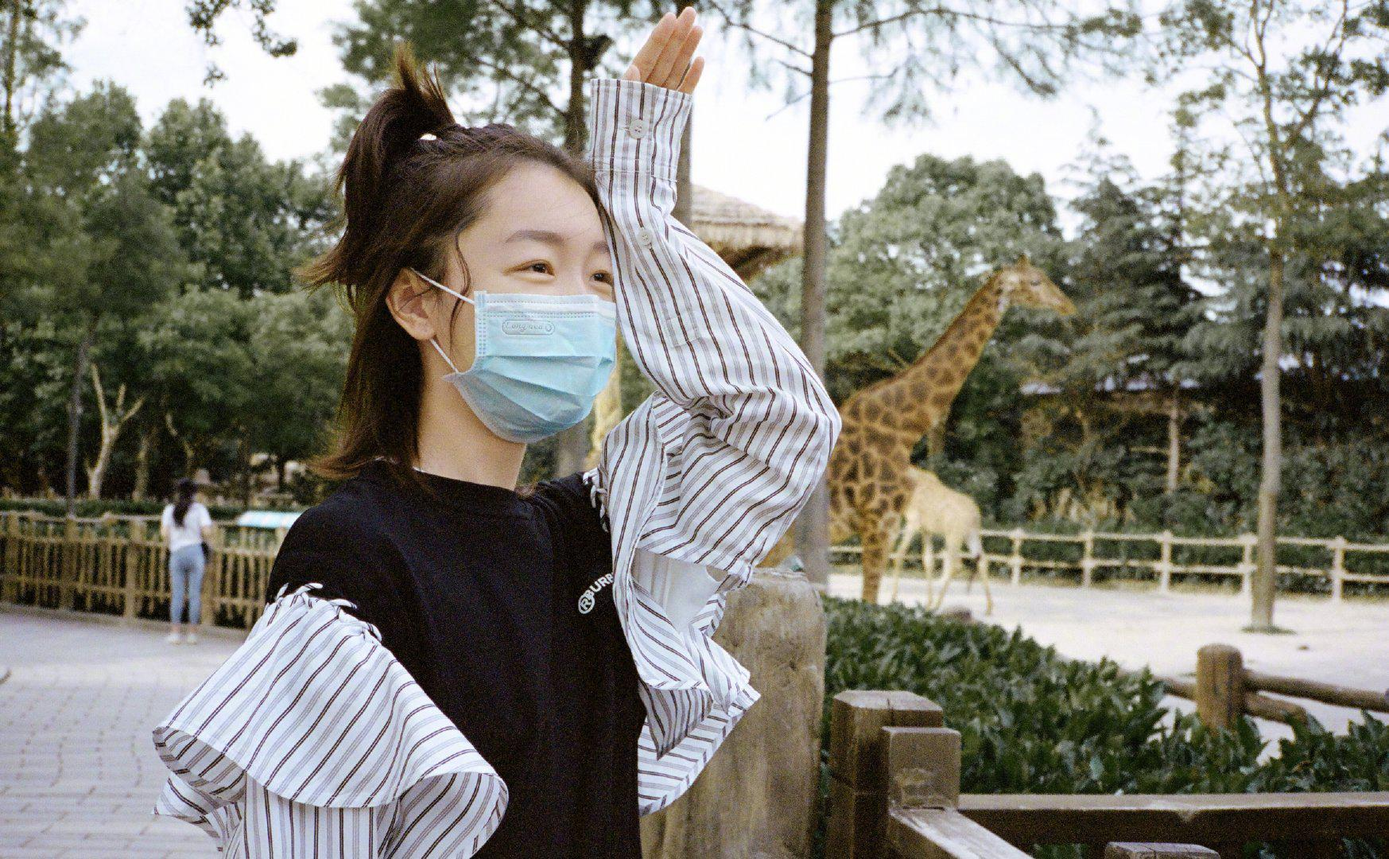OK: (463, 201, 620, 440)
